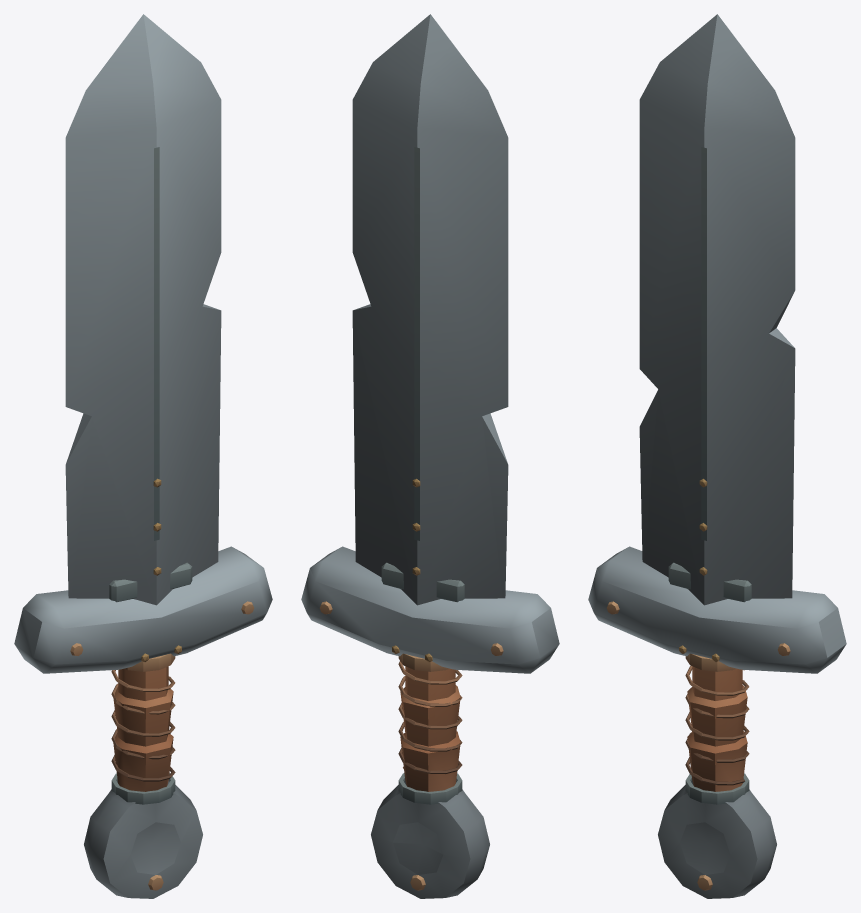
The model's file is espada_cobre_t1.glb.
3 renders of one model, left to right at view 1: azimuth 30°, elevation 25°; view 2: azimuth 150°, elevation 25°; view 3: azimuth 330°, elevation 25°, orthographic.
Parts seen in each view (by area): view 1: espada_cobre_t1_finished; view 2: espada_cobre_t1_finished; view 3: espada_cobre_t1_finished.
Part boxes in pixels (x1,y1,x2,y2): espada_cobre_t1_finished: (14,14,272,898); espada_cobre_t1_finished: (301,14,559,898); espada_cobre_t1_finished: (588,14,846,898).
Bounding box in the file's own units: 0.5034 × 1.78 × 0.1486.
Materials: 2 (2 with a texture image).
